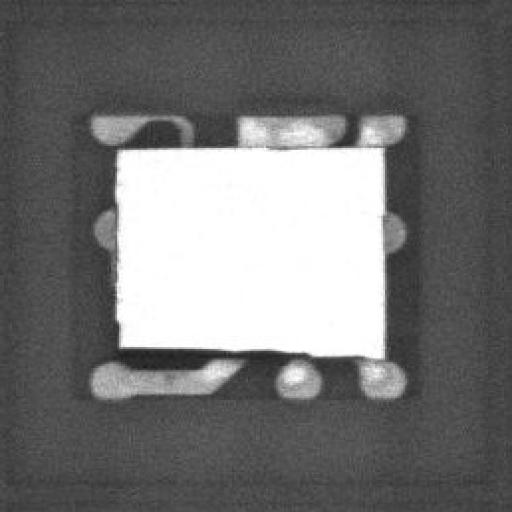DIE_BROKEN: (113, 344, 363, 358), (111, 163, 121, 343), (252, 142, 318, 152)
